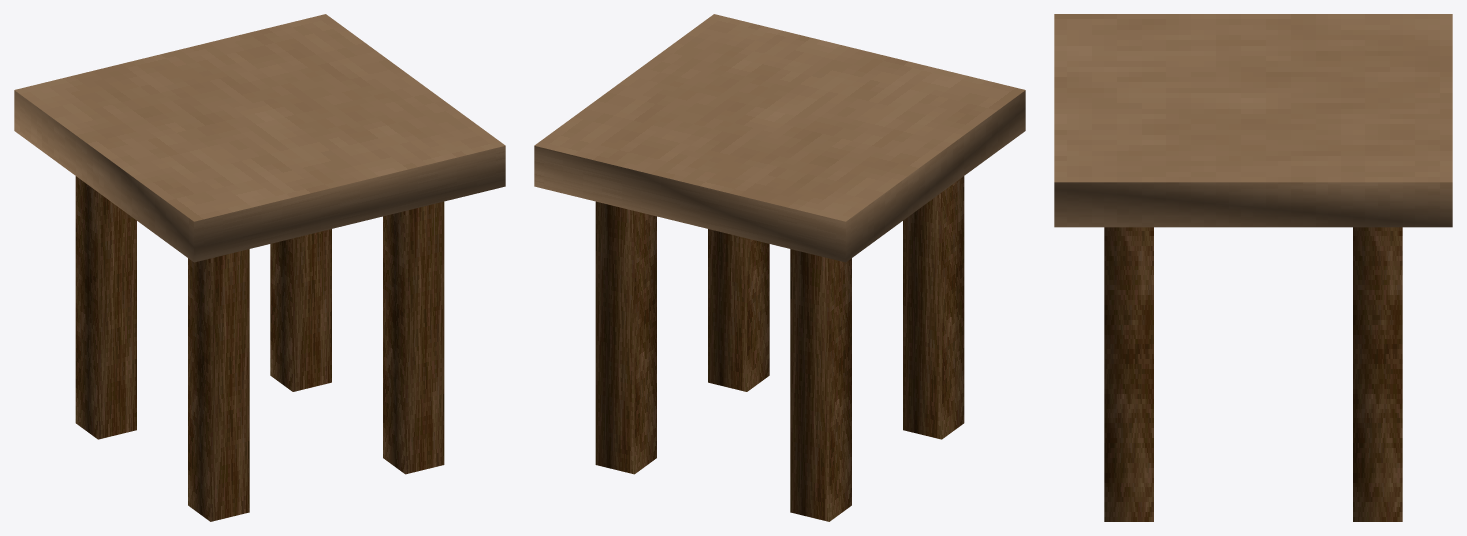
File: WoodenTable.glb
The picture shows the model from 3 angles, left to right: view 1: azimuth 30°, elevation 25°; view 2: azimuth 150°, elevation 25°; view 3: azimuth 270°, elevation 25°; orthographic projection. The views are drawn at different scales.
Visible parts, largest first — view 1: Top2; view 2: Top2; view 3: Top2.
Part boxes in pixels (box(x1,y1,x2,y2)): Top2: box(14, 14, 505, 521); Top2: box(534, 14, 1025, 521); Top2: box(1054, 14, 1452, 521).
Bounding box in the file's own units: 0.8 × 0.8 × 0.8.
2 materials, 2 textured.
